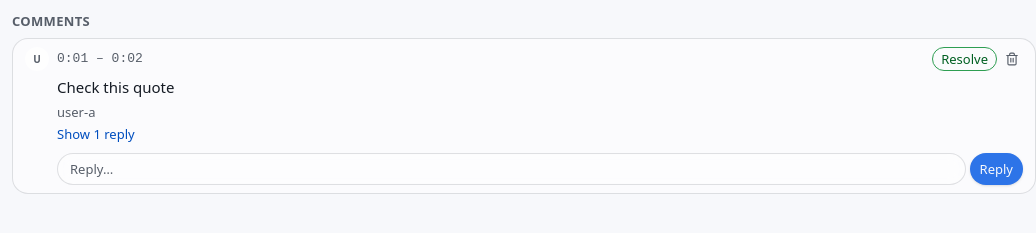
Test: CommentsPanel › expands replies on click
This screenshot has width=1036, height=233.
Click the button "Show 1 reply".
click(96, 134)  # box [57, 125, 135, 143]
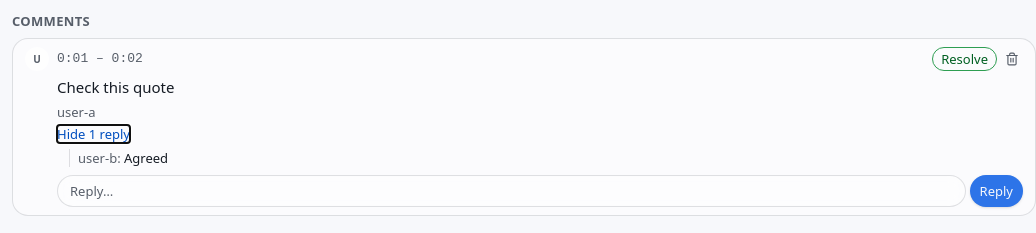
Expected: the text "Agreed" is shown, [124, 149, 168, 167]
